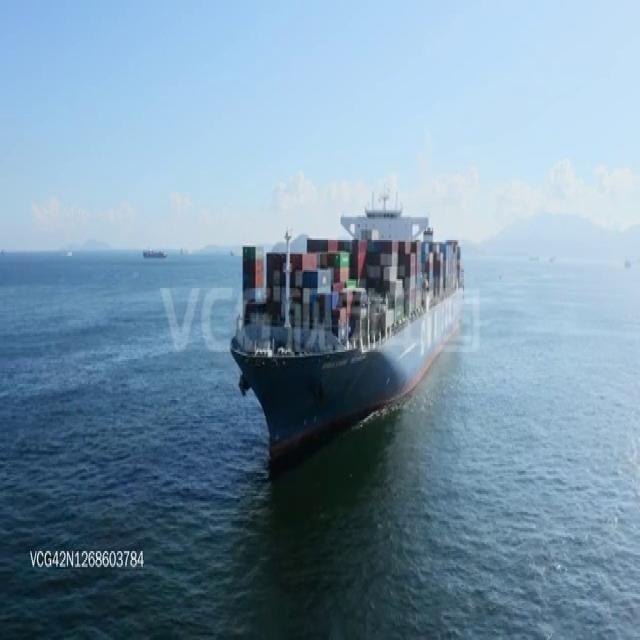cargoship: (229, 181, 465, 461)
